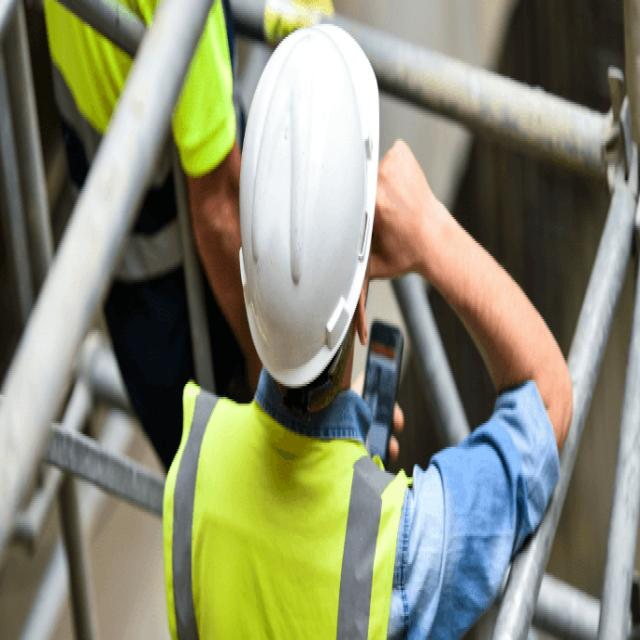helmet: (237, 22, 382, 386)
vest: (161, 375, 414, 640)
